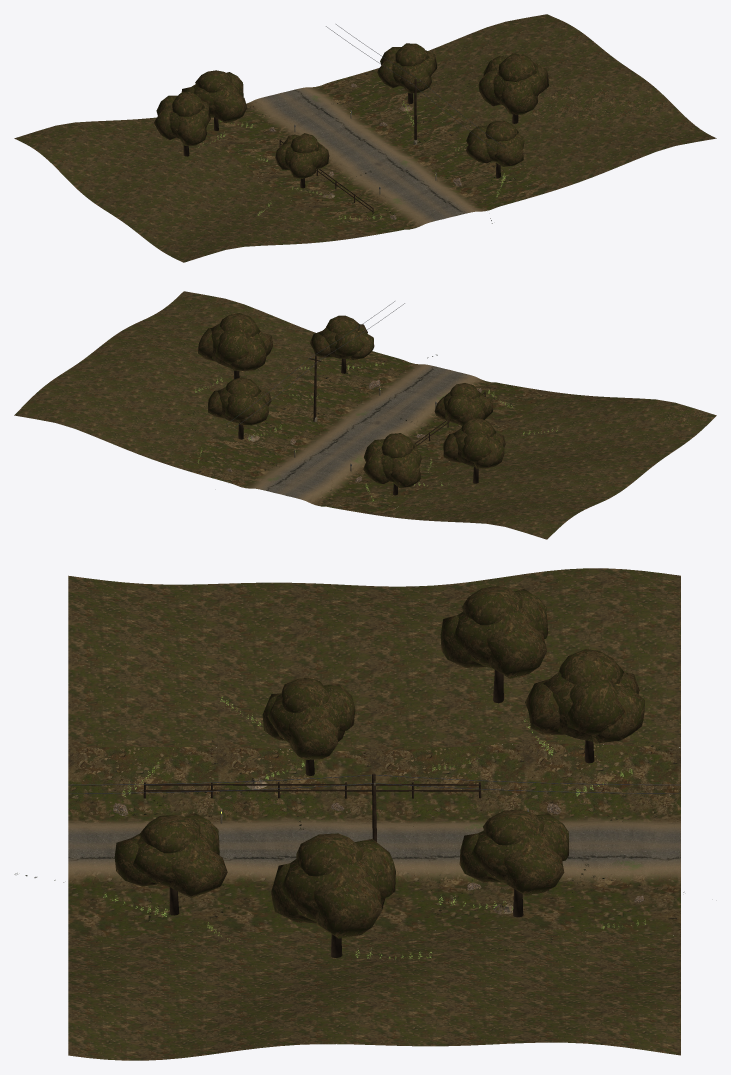
File: road_tile.glb
3 renders of one model, top to bottom at view 1: azimuth 30°, elevation 25°; view 2: azimuth 150°, elevation 25°; view 3: azimuth 270°, elevation 25°, orthographic. The views are drawn at different scales.
Parts seen in each view (by area): view 1: Road_Terrain, Tree_Canopy_4, Tree_Canopy_5, Tree_Canopy_2, Tree_Canopy_0, Tree_Canopy_3, Tree_Canopy_1; view 2: Road_Terrain, Tree_Canopy_4, Tree_Canopy_3, Tree_Canopy_5, Tree_Canopy_2, Tree_Canopy_0, Tree_Canopy_1; view 3: Road_Terrain, Tree_Canopy_4, Tree_Canopy_3, Tree_Canopy_5, Tree_Canopy_2, Tree_Canopy_0, Tree_Canopy_1, Utility_Wire_0.
Part boxes in pixels (x1=…): Road_Terrain: x1=14, y1=14, x2=716, y2=262; Tree_Canopy_4: x1=478, y1=53, x2=548, y2=114; Tree_Canopy_5: x1=154, y1=91, x2=210, y2=145; Tree_Canopy_2: x1=377, y1=43, x2=437, y2=93; Tree_Canopy_0: x1=466, y1=120, x2=524, y2=166; Tree_Canopy_3: x1=181, y1=70, x2=247, y2=122; Tree_Canopy_1: x1=275, y1=133, x2=329, y2=178; Road_Terrain: x1=14, y1=291, x2=716, y2=539; Tree_Canopy_4: x1=198, y1=313, x2=272, y2=371; Tree_Canopy_3: x1=363, y1=433, x2=421, y2=488; Tree_Canopy_5: x1=443, y1=417, x2=505, y2=468; Tree_Canopy_2: x1=208, y1=377, x2=271, y2=425; Tree_Canopy_0: x1=310, y1=315, x2=374, y2=359; Tree_Canopy_1: x1=434, y1=383, x2=493, y2=425; Road_Terrain: x1=68, y1=568, x2=680, y2=1060; Tree_Canopy_4: x1=271, y1=833, x2=395, y2=938; Tree_Canopy_3: x1=525, y1=649, x2=644, y2=743; Tree_Canopy_5: x1=440, y1=586, x2=548, y2=678; Tree_Canopy_2: x1=459, y1=809, x2=568, y2=895; Tree_Canopy_0: x1=114, y1=813, x2=227, y2=897; Tree_Canopy_1: x1=262, y1=678, x2=355, y2=759; Utility_Wire_0: x1=68, y1=775, x2=680, y2=785.
Size of the model in its own units: 58 by 8.02 by 36.71.
18 materials, 15 textured.
